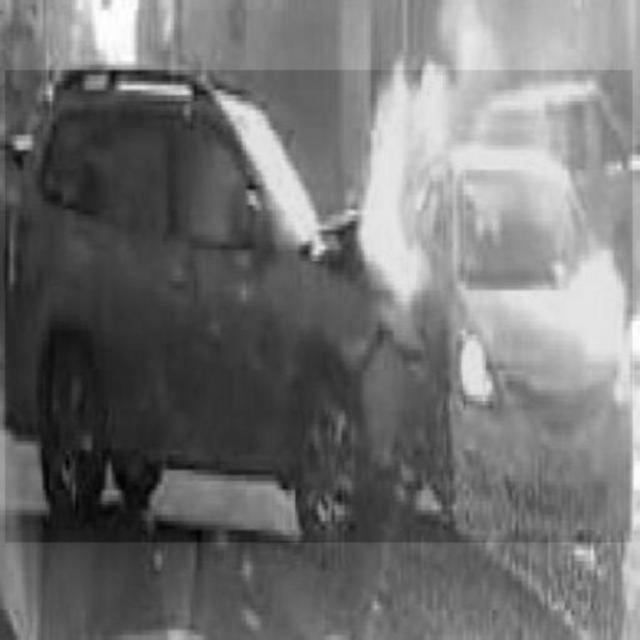accident: (5, 71, 632, 543)
